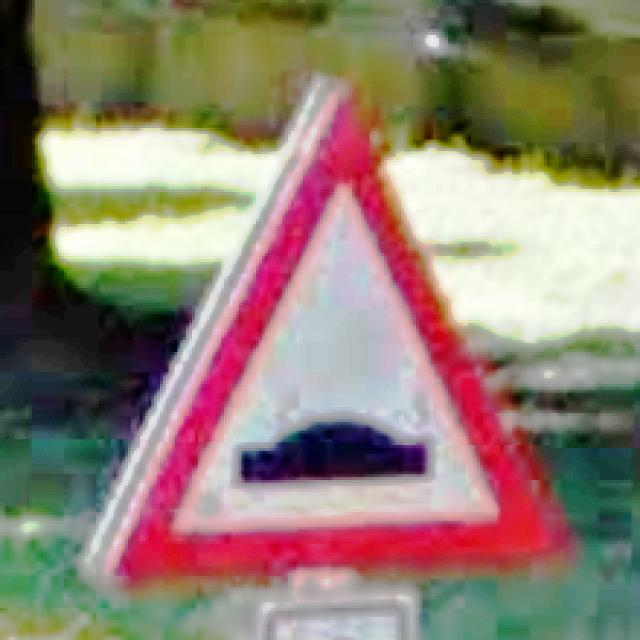hump: (112, 88, 553, 575)
